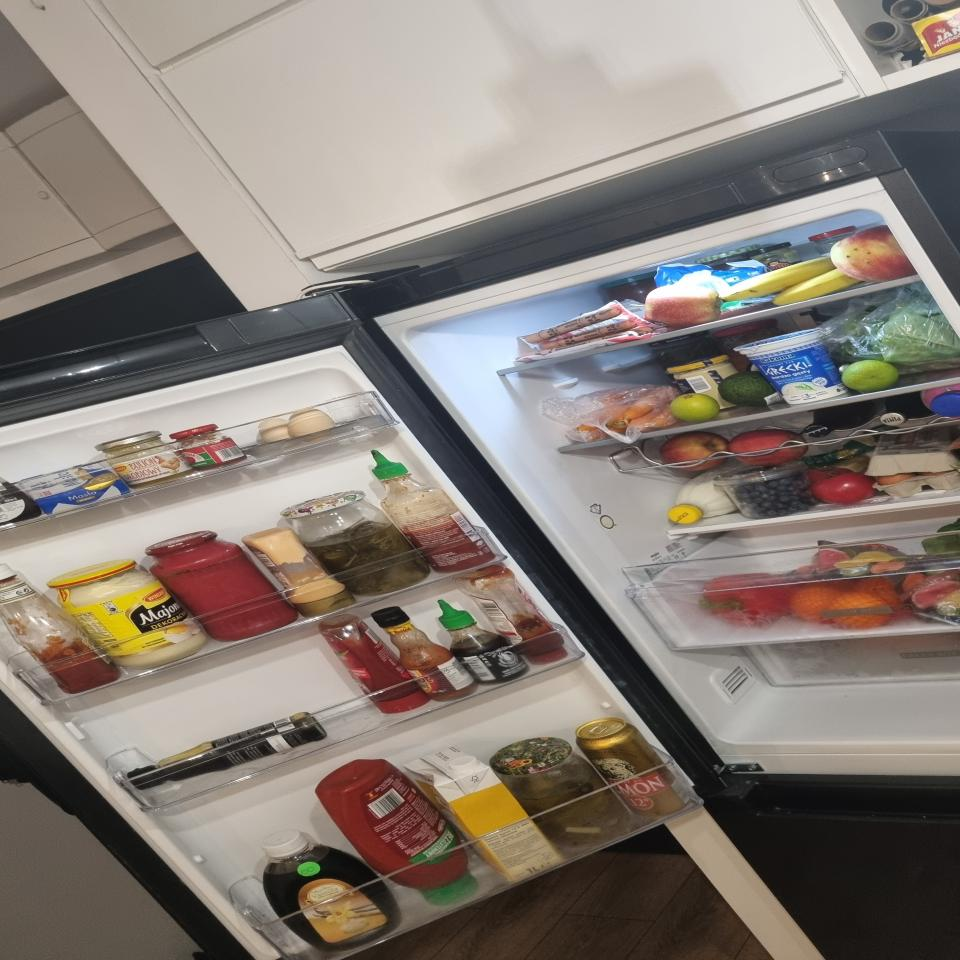Aguacate: (718, 372, 779, 406)
Huevos: (870, 430, 960, 498), (242, 407, 341, 442)
Leche: (408, 746, 566, 884), (667, 467, 744, 523)
Lechuga/Endivia: (817, 291, 960, 374)
Mantequilla: (13, 462, 130, 512), (651, 260, 769, 292)
Manzana: (830, 226, 920, 282), (644, 285, 721, 324), (662, 432, 728, 471), (734, 430, 806, 463)
Plátano: (725, 257, 863, 305)
Tomate: (814, 473, 875, 506)
Yogur: (735, 327, 845, 406)
Zanahoria: (567, 386, 673, 442)
